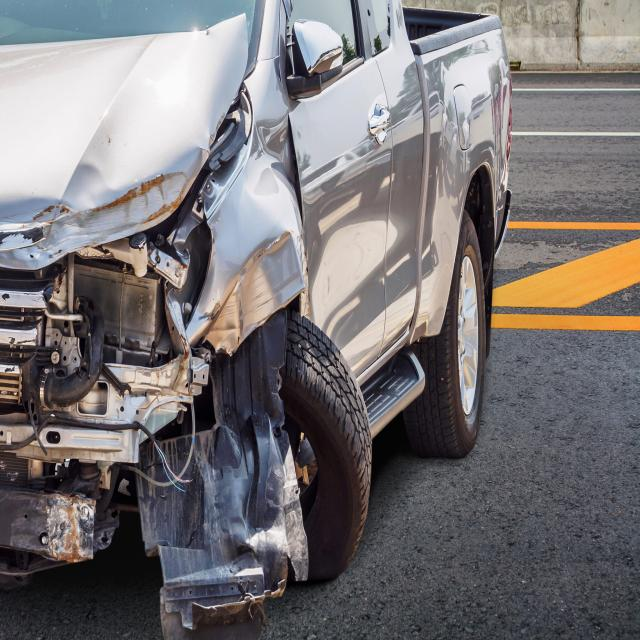Accident: (0, 0, 521, 633)
